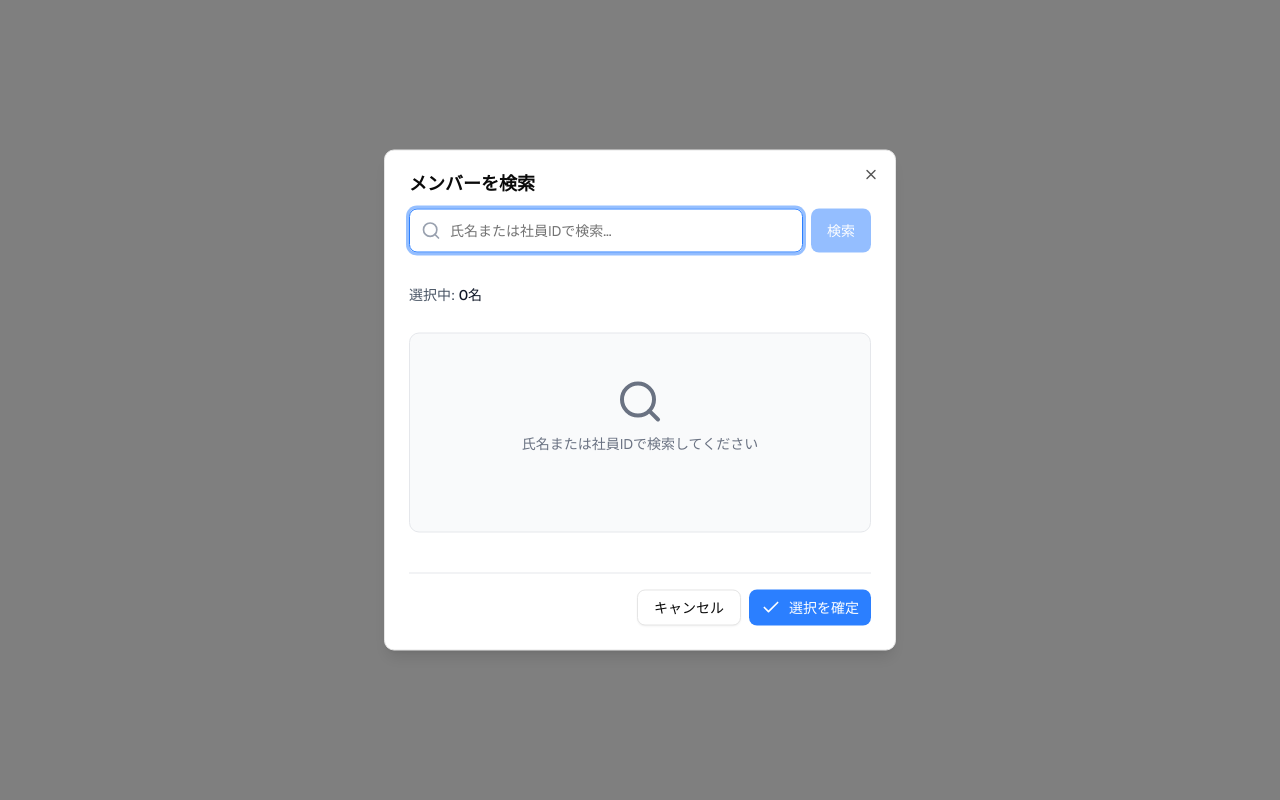
Scenario: MemberSearchModal › 検索結果表示 › 検索成功時に結果が表示される
Type "テスト" into the search field with placeholder "氏名または社員IDで検索..." at {"x": 606, "y": 230}, box [409, 208, 803, 252]
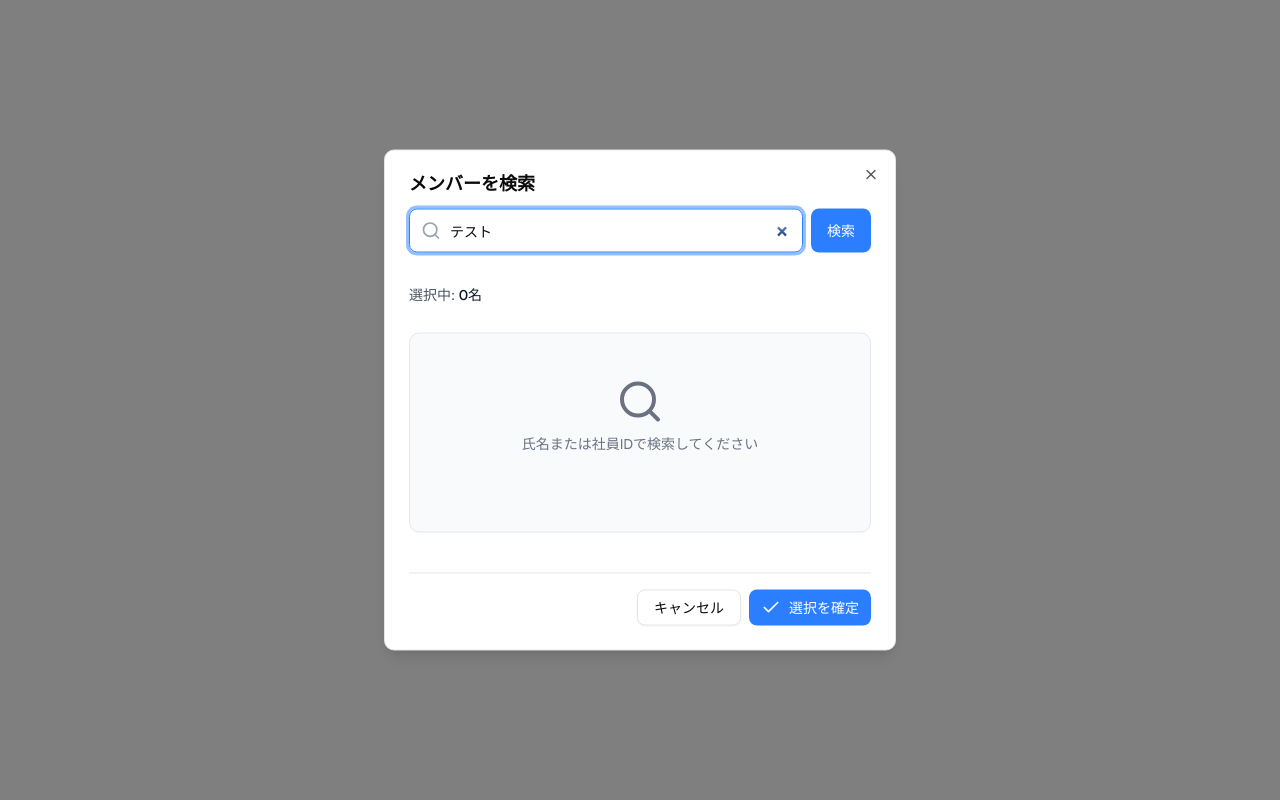
Click the button "検索" at {"x": 841, "y": 230}, box [811, 208, 871, 252]
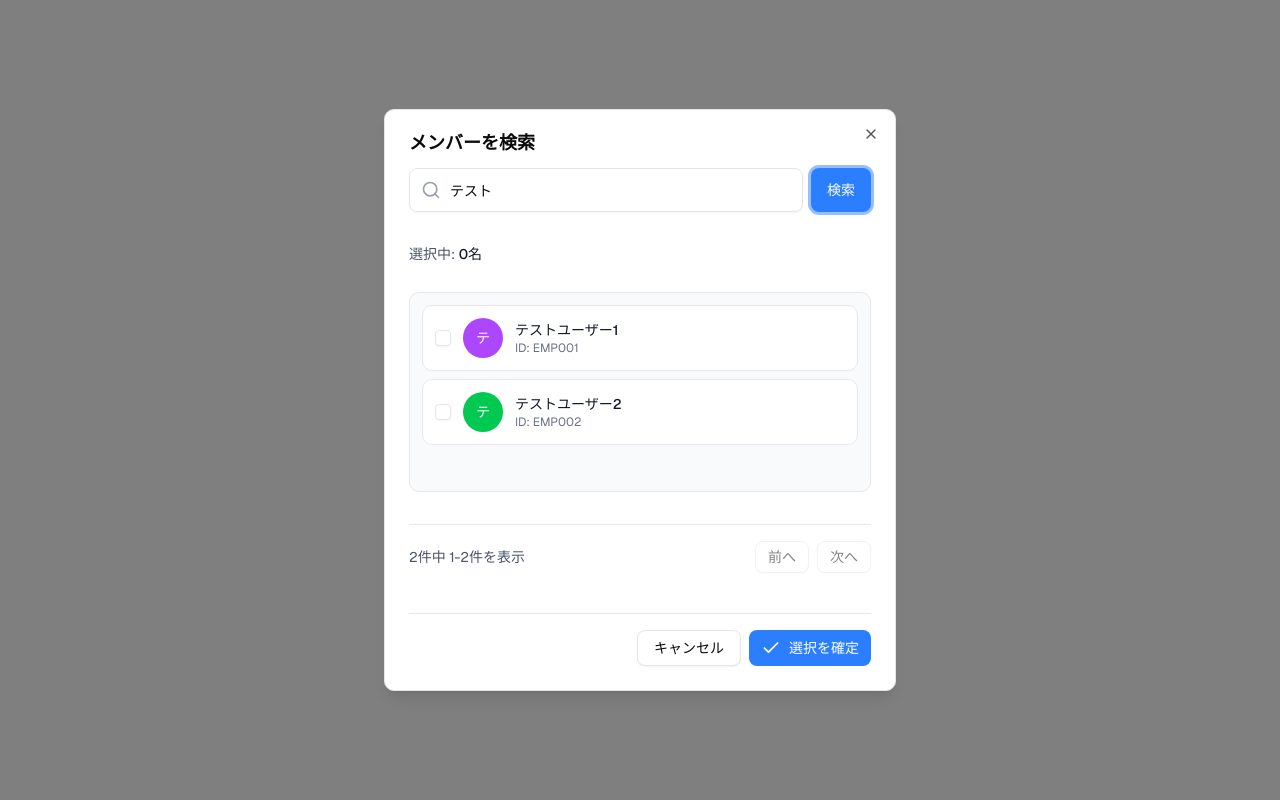
Expected: the text "テストユーザー1" is shown, [515, 321, 618, 339]
Expected: the text "テストユーザー2" is shown, [515, 395, 622, 413]
